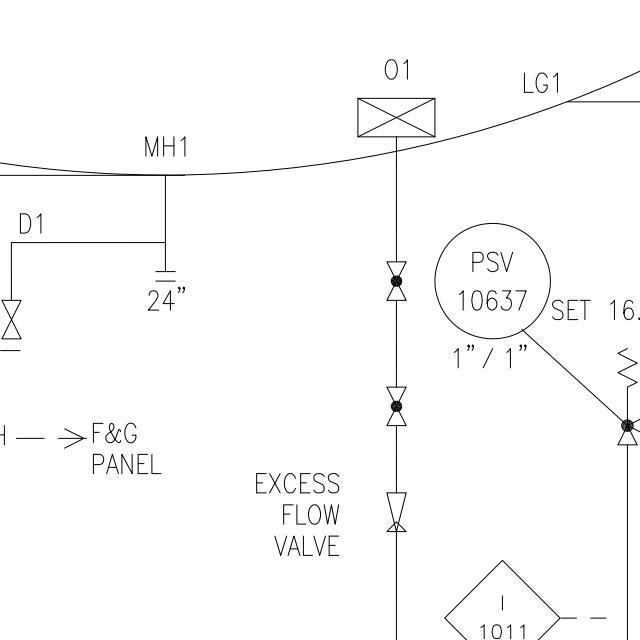BV2: (383, 382, 412, 431), (385, 258, 410, 305)
GV: (0, 292, 24, 345)
